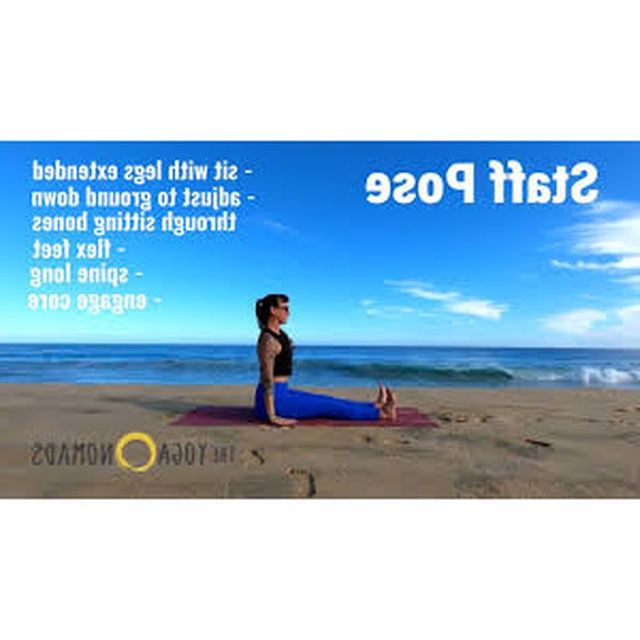Staff_Pose: (253, 294, 398, 426)
